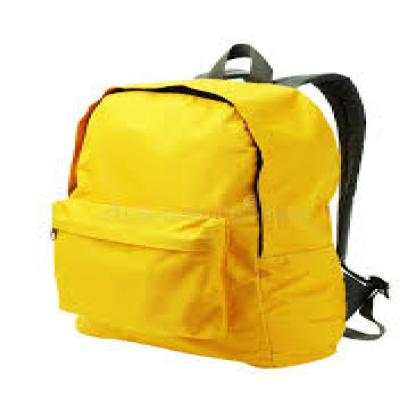morral: (41, 39, 414, 386)
